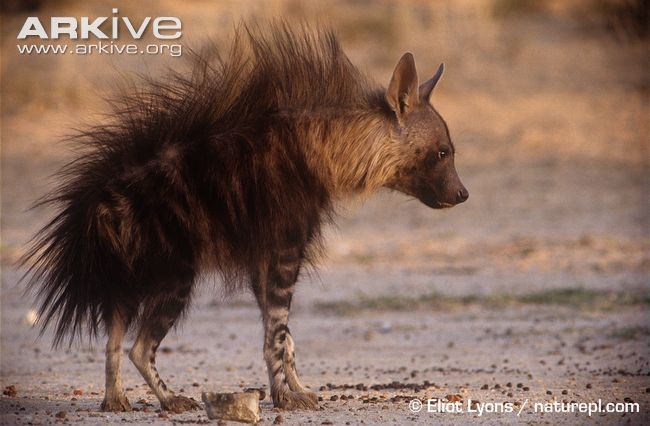hyena: (19, 17, 470, 426)
